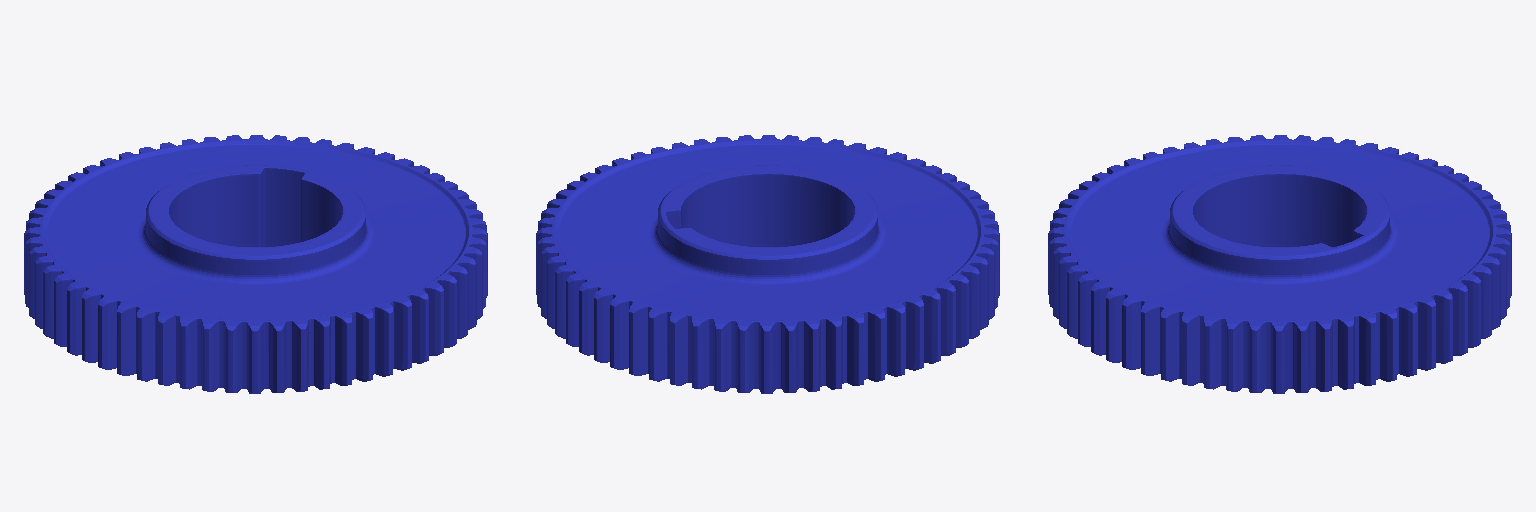
3 renders of one model, left to right at view 1: azimuth 30°, elevation 25°; view 2: azimuth 150°, elevation 25°; view 3: azimuth 270°, elevation 25°, orthographic.
Parts seen in each view (by area): view 1: Gear2; view 2: Gear2; view 3: Gear2.
Boxes of the visible parts, x1,y1,x2,y2 form: Gear2: [24, 135, 487, 393]; Gear2: [536, 135, 999, 393]; Gear2: [1048, 135, 1511, 393].
Bounding box in the file's own units: 18.14 × 3.93 × 18.14.
1 materials, 1 textured.